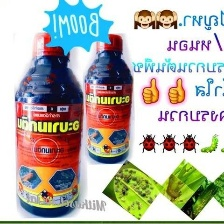insecticide: (11, 27, 85, 220), (81, 31, 134, 165)
